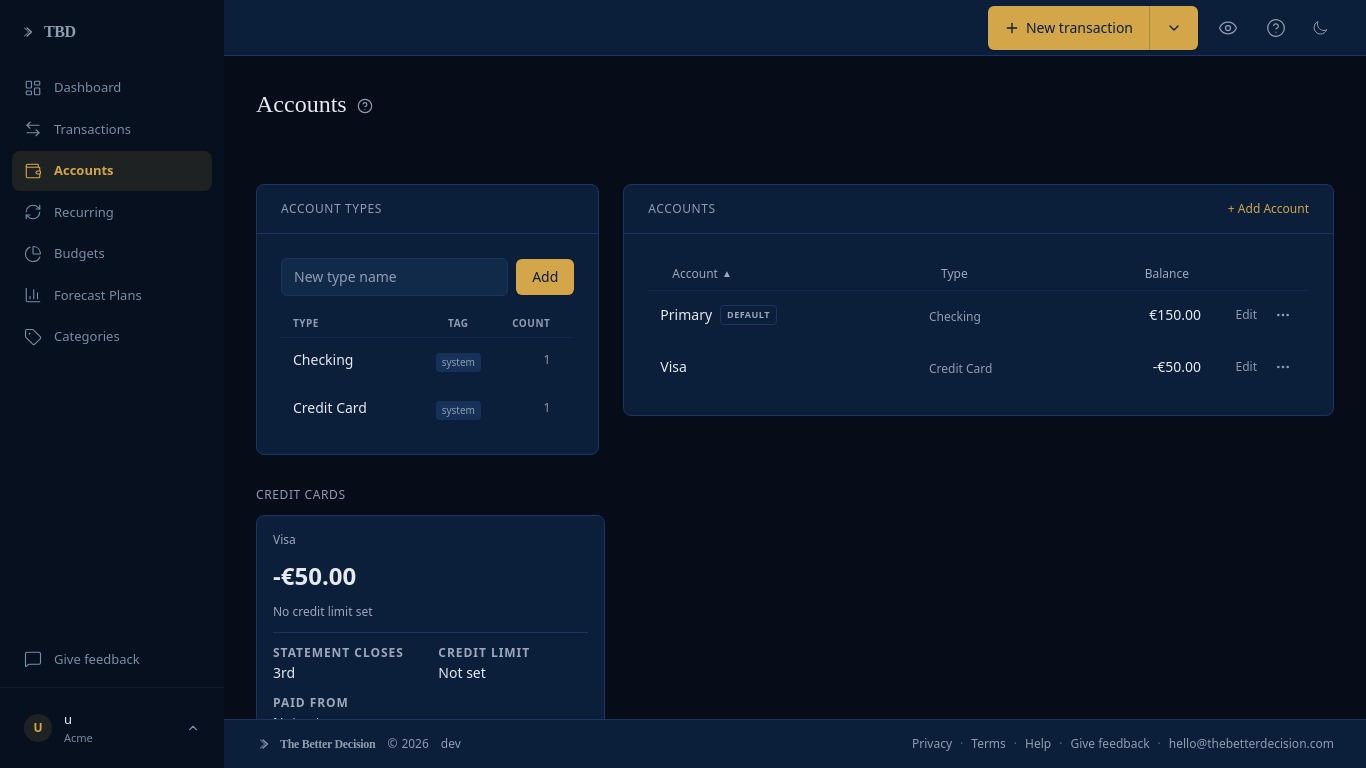
it: CC payment day — inline edit › blank day + same-month is blocked (effective day 1 is on/before close)
The image size is (1366, 768).
Click the 2nd button "Edit".
click(1246, 367)  # box [1236,359,1257,375]
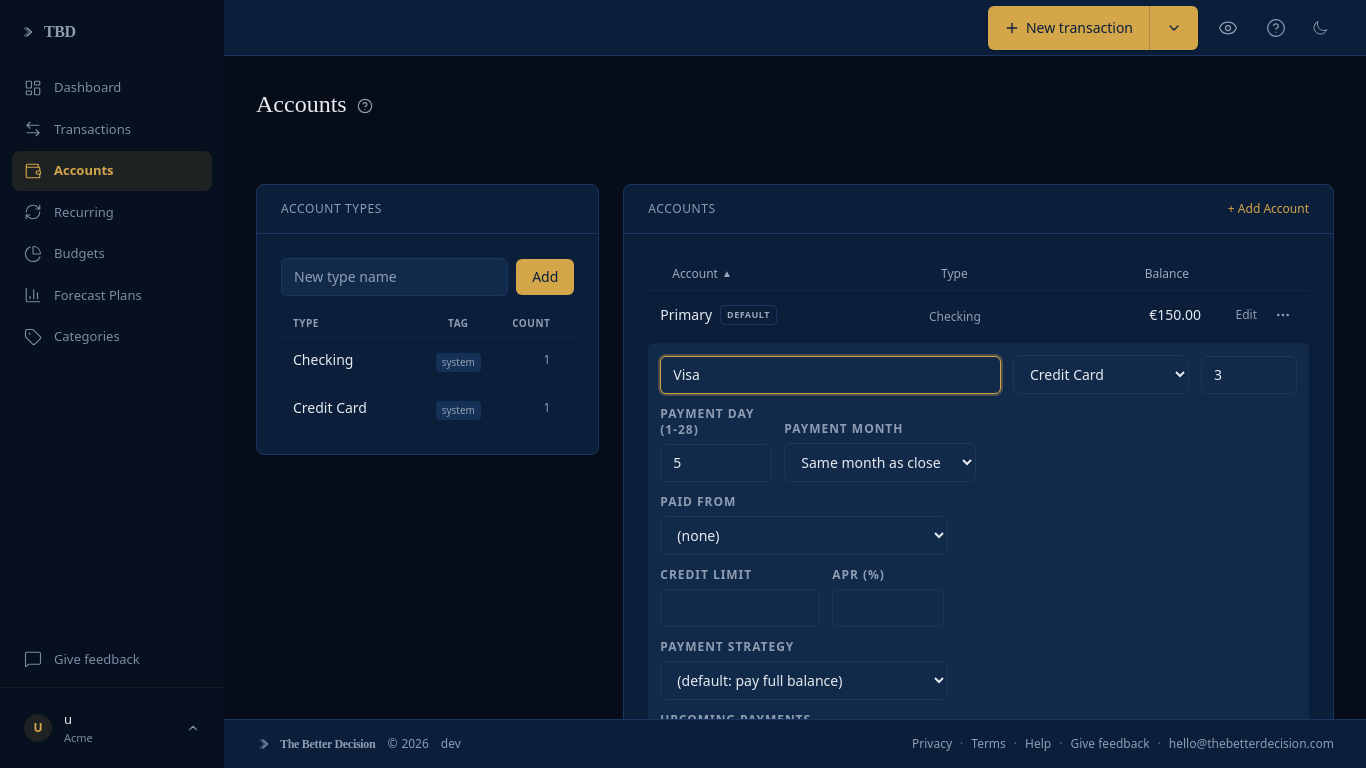
Clear the number field labelled "Payment day" at {"x": 716, "y": 463}, box [660,444,772,482]
(page scrolled)
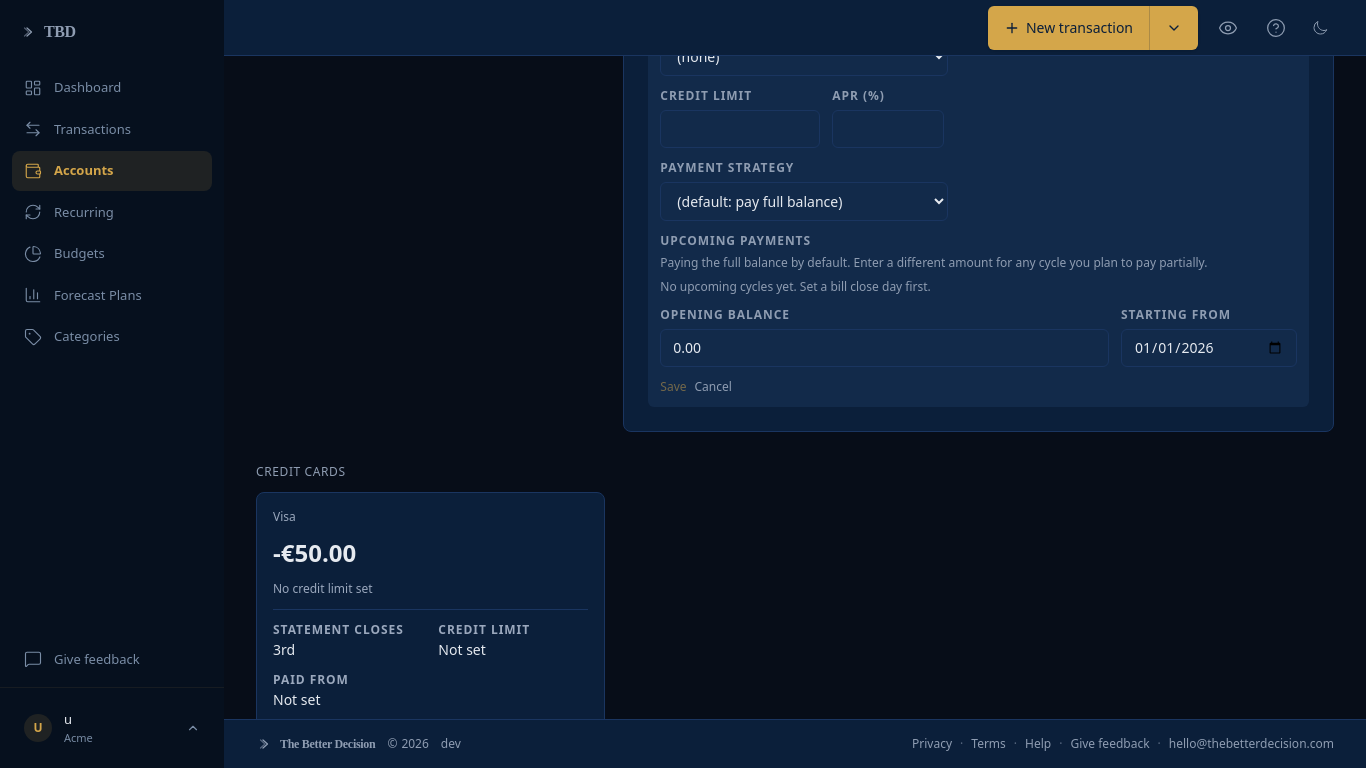
Expected: the button "Save" is disabled, [660,379,686,395]
